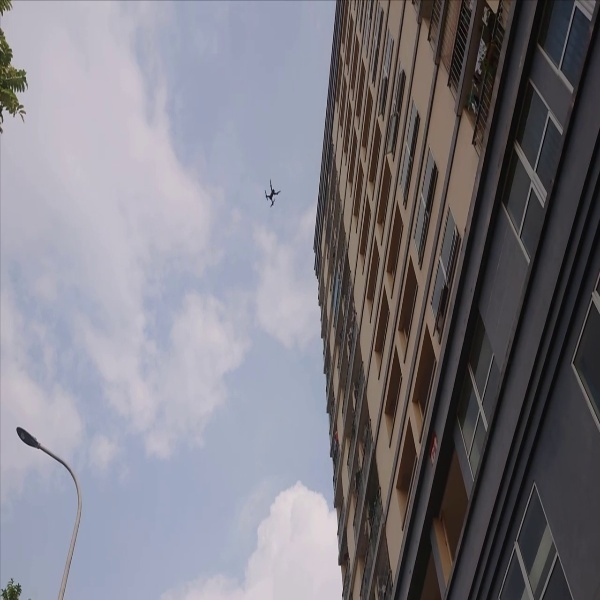drone: (260, 176, 284, 213)
